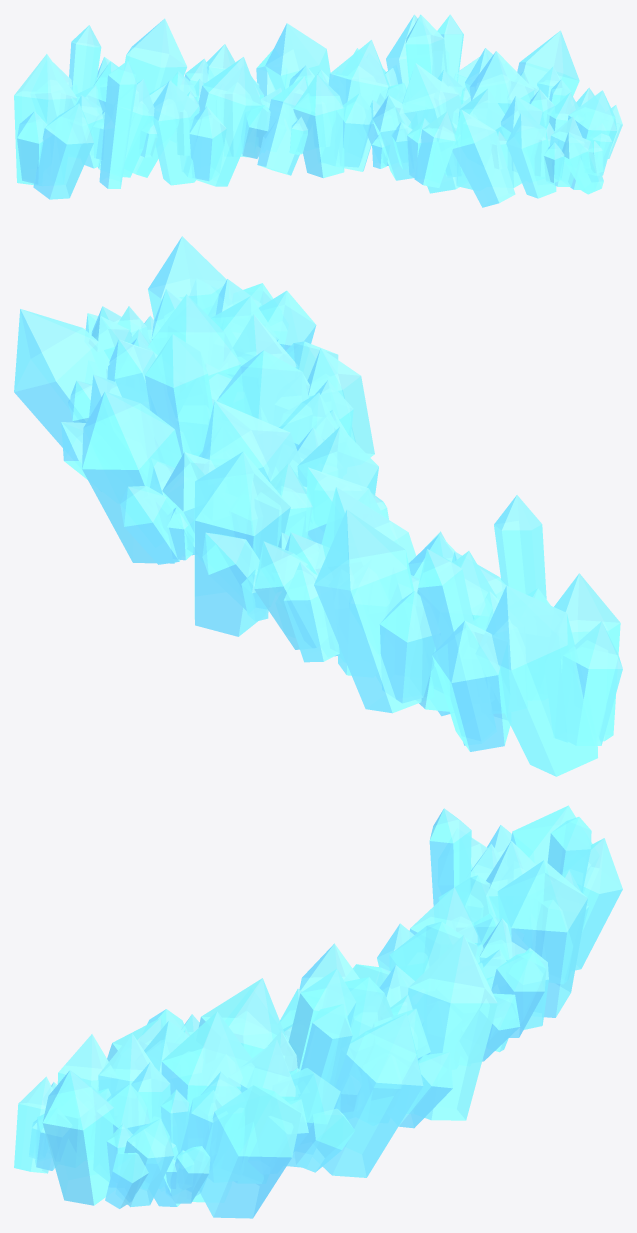
The model's file is Kristalle_4.fbx.
The picture shows the model from 3 angles, top to bottom: view 1: azimuth 30°, elevation 25°; view 2: azimuth 150°, elevation 25°; view 3: azimuth 270°, elevation 25°; orthographic projection. The views are drawn at different scales.
Visible parts, largest first — view 1: Steinkliff.004; view 2: Steinkliff.004; view 3: Steinkliff.004.
Boxes of the visible parts, x1=… form: Steinkliff.004: x1=14, y1=14, x2=622, y2=207; Steinkliff.004: x1=14, y1=236, x2=622, y2=776; Steinkliff.004: x1=14, y1=805, x2=622, y2=1218.
Bounding box in the file's own units: 401 × 122 × 315.
